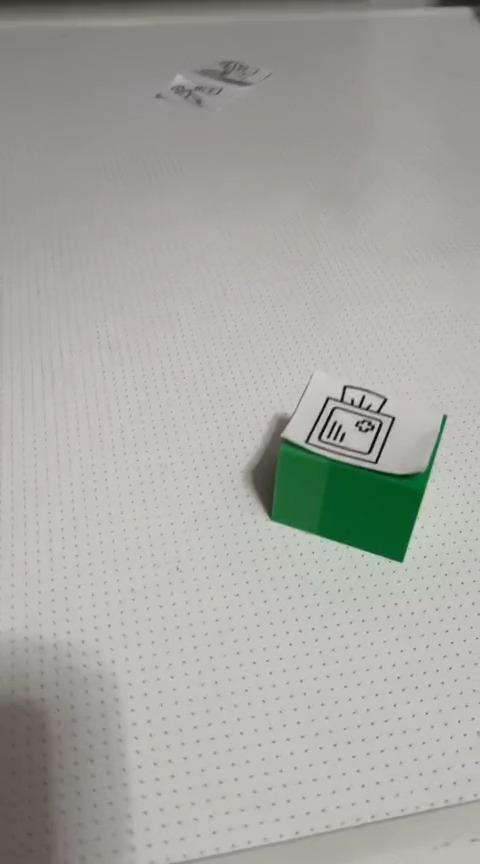Gauze: (268, 368, 447, 563)
